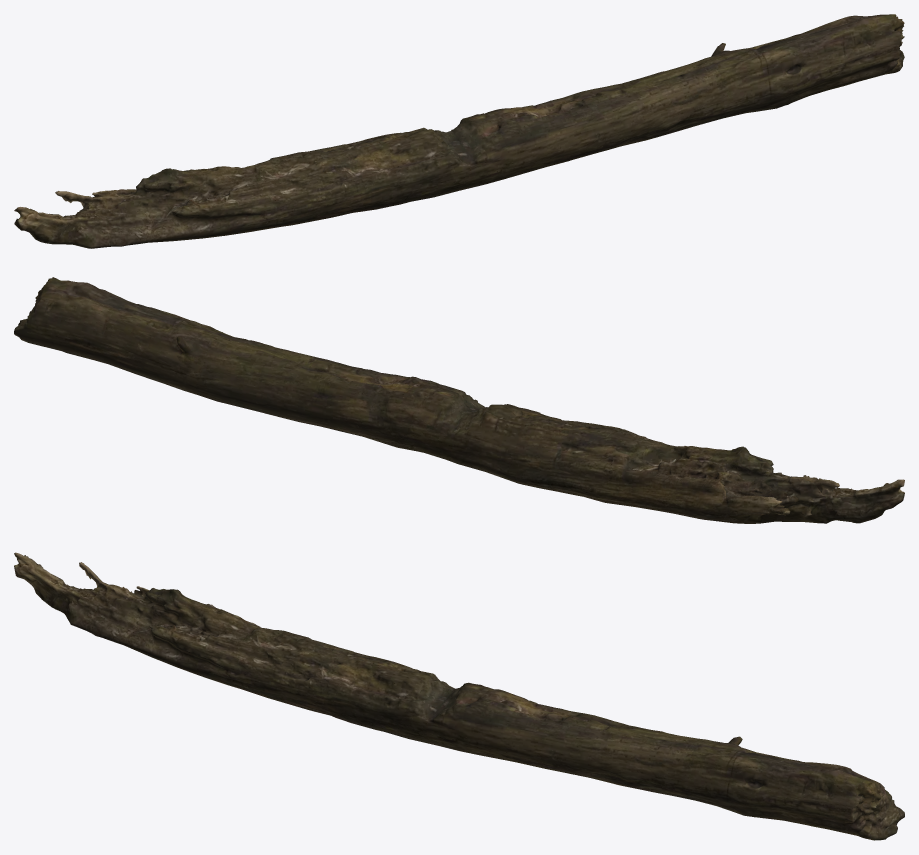
Rendered from dead_tree.glb.
3 views of the same model, one above another, from view 1: azimuth 30°, elevation 25°; view 2: azimuth 150°, elevation 25°; view 3: azimuth 330°, elevation 25° (orthographic).
Parts seen in each view (by area): view 1: dead_tree_trunk; view 2: dead_tree_trunk; view 3: dead_tree_trunk.
Boxes of the visible parts, x1,y1,x2,y2 form: dead_tree_trunk: [14, 14, 904, 248]; dead_tree_trunk: [14, 277, 904, 523]; dead_tree_trunk: [14, 552, 904, 840].
Size of the model in its own units: 3.05 by 0.2899 by 0.2775.
Materials: 1 (1 with a texture image).
